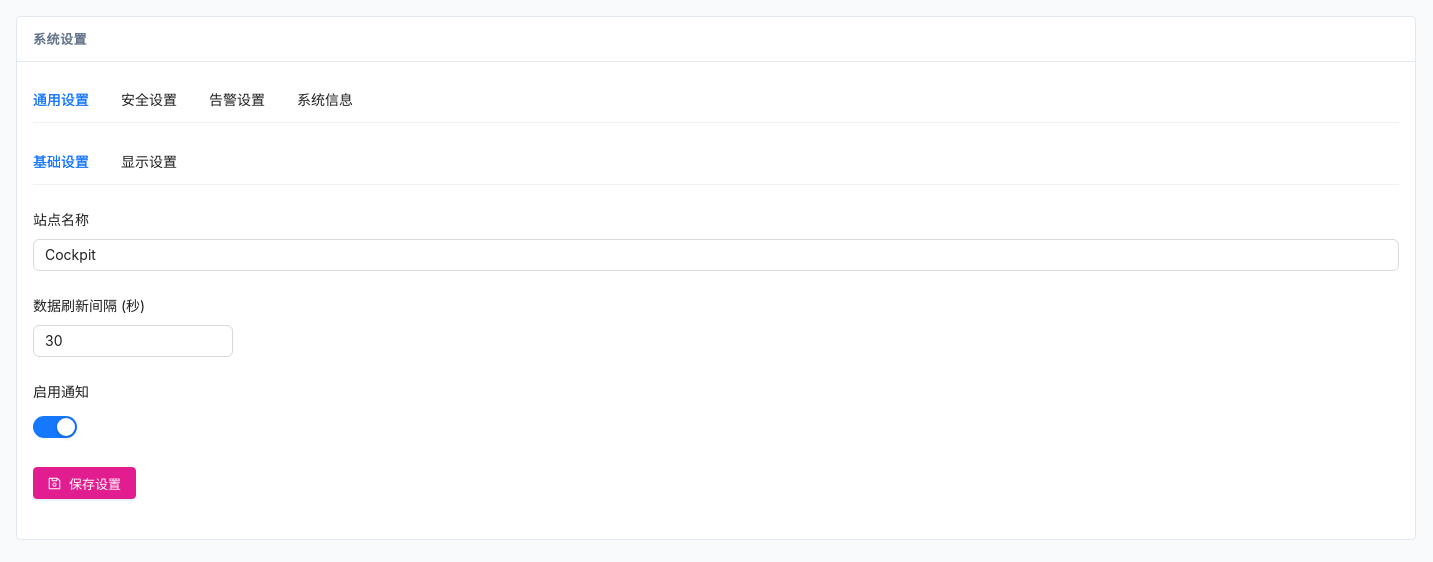
it: Settings › 通知渠道为空：引导 Alert 与测试按钮禁用
Click the tab "告警设置".
click(237, 100)  # box [209,89,265,111]
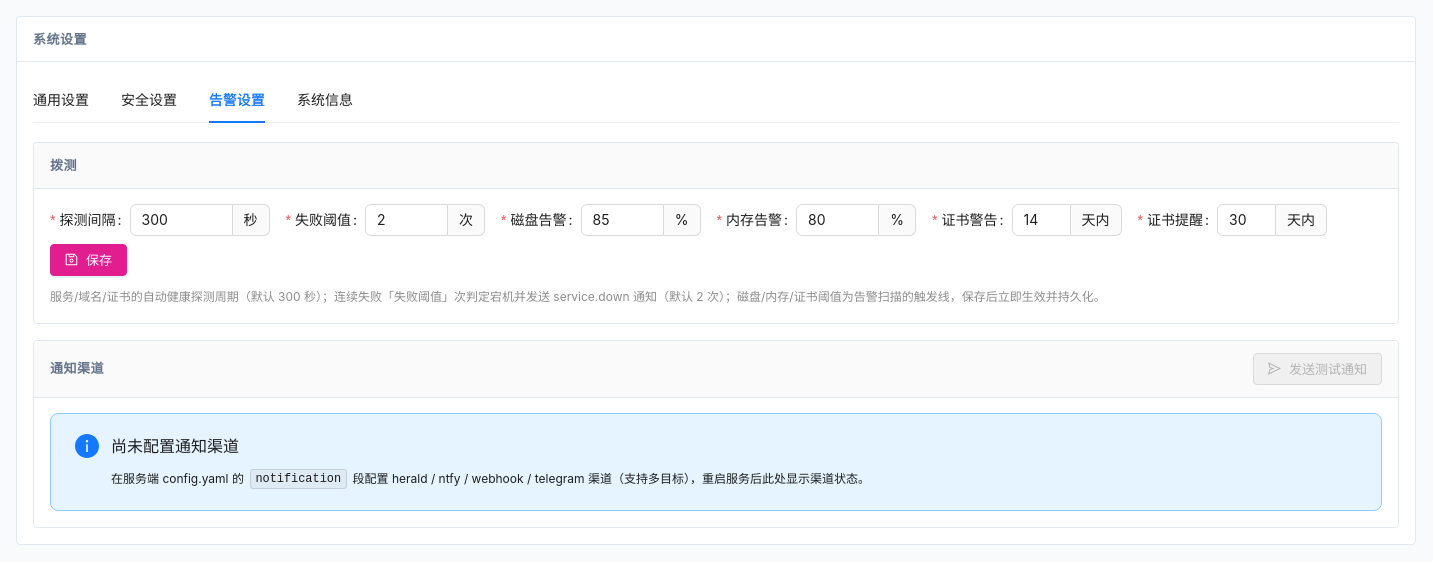
Check: the text "尚未配置通知渠道" is shown, box [111,436,239,456]
Check: the text "在服务端 config.yaml 的" is shown, box [111,471,247,486]
Check: the button "发送测试通知" is disabled, box [1253,353,1382,385]
